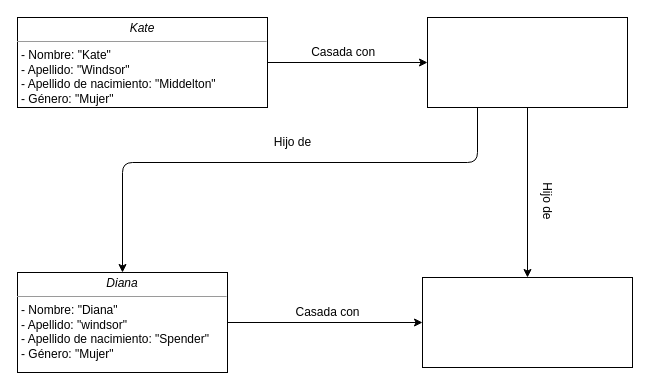
The diagram is 650 pixels wide and 390 high, and some of its shapes have lost their labels. Each missing label, with the box of its shape:
Carlos - Nombre = "Carlos" - Apellido = "Windsor" - Género = "Hombre": (422, 276, 632, 368)
Guillermo - Nombre: "Guillermo" - Apellido: "Windsor" - Género: "Hombre": (426, 16, 628, 108)
